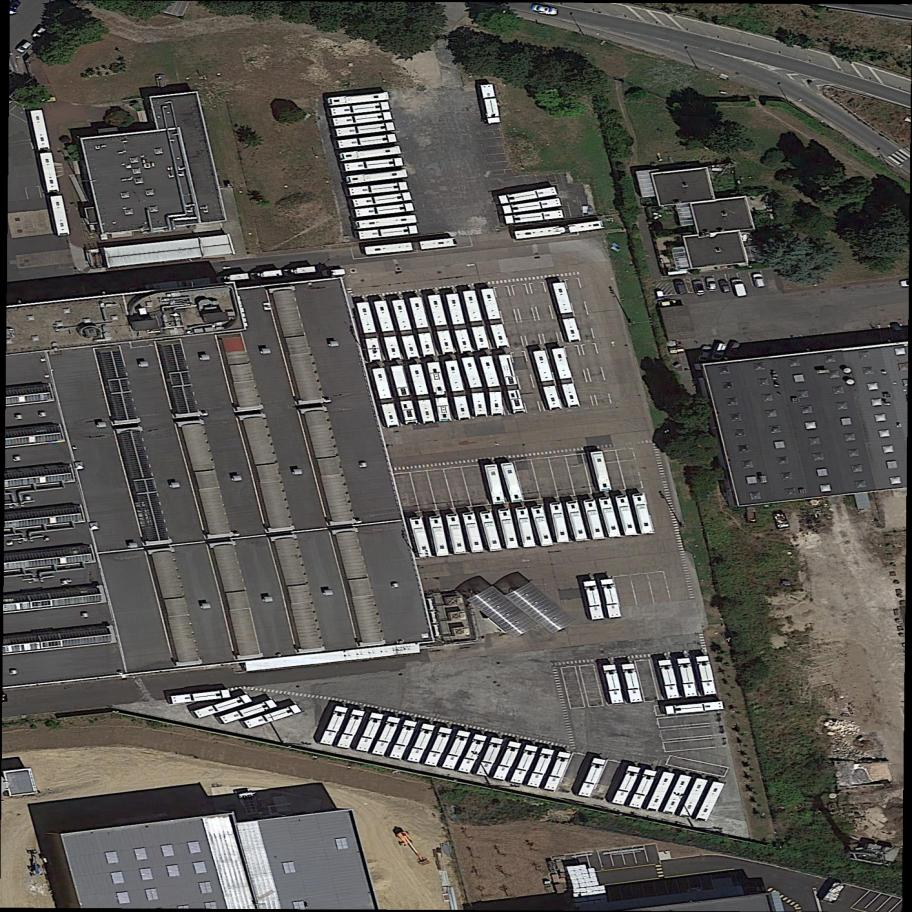large-vehicle: (551, 345, 582, 411), (551, 279, 582, 345), (480, 285, 511, 351), (390, 297, 421, 362), (512, 220, 605, 241), (461, 355, 491, 420), (443, 291, 473, 356), (532, 348, 562, 412), (427, 292, 456, 357), (373, 298, 402, 363), (390, 363, 419, 427), (497, 352, 526, 416), (462, 288, 491, 352), (361, 237, 458, 256), (409, 295, 437, 360), (372, 366, 400, 430), (409, 362, 437, 426), (356, 300, 383, 365), (216, 698, 278, 726), (445, 358, 472, 422), (191, 693, 254, 720), (241, 703, 303, 730), (479, 354, 505, 418), (427, 360, 452, 424), (440, 726, 472, 773), (456, 731, 488, 777), (318, 702, 349, 749), (354, 709, 385, 756), (387, 716, 418, 763), (423, 723, 454, 770), (335, 706, 366, 752), (370, 713, 401, 759), (405, 720, 436, 766), (576, 754, 607, 800), (611, 763, 642, 808), (662, 772, 693, 817), (492, 738, 522, 784), (542, 748, 572, 794), (628, 766, 658, 812), (679, 775, 709, 821), (695, 778, 725, 824), (646, 769, 676, 814), (475, 734, 504, 779), (509, 742, 538, 787), (526, 745, 554, 791), (494, 186, 558, 205), (337, 145, 403, 163), (498, 197, 562, 215), (588, 448, 613, 494), (36, 150, 61, 196), (331, 121, 396, 138), (348, 191, 413, 208), (350, 202, 415, 219), (409, 514, 433, 560), (500, 460, 524, 505), (28, 108, 52, 153), (334, 133, 397, 150), (531, 503, 554, 549), (480, 508, 503, 554), (47, 194, 71, 238), (478, 82, 502, 126), (500, 209, 565, 225), (462, 510, 485, 555), (599, 495, 622, 540), (615, 493, 638, 538), (632, 491, 655, 536), (356, 224, 420, 240), (326, 91, 390, 107), (354, 214, 418, 230), (329, 111, 393, 127), (340, 157, 404, 173), (345, 169, 409, 185), (345, 181, 409, 197), (599, 576, 622, 620), (498, 506, 520, 552), (658, 657, 681, 701), (565, 499, 588, 543), (602, 663, 625, 707), (327, 101, 390, 117), (583, 497, 605, 542), (621, 661, 643, 706), (695, 654, 717, 698), (445, 512, 467, 556), (484, 462, 506, 506), (677, 656, 699, 700), (167, 689, 231, 704), (583, 579, 605, 622), (549, 500, 570, 545), (515, 505, 536, 549), (429, 514, 449, 558), (663, 701, 725, 715), (142, 279, 182, 293), (249, 268, 287, 282), (214, 272, 249, 285), (286, 265, 318, 277), (321, 268, 348, 279), (182, 277, 209, 287)
small-vehicle: (725, 340, 745, 364), (711, 340, 727, 363), (731, 277, 747, 299), (697, 342, 712, 363), (673, 277, 688, 297), (531, 5, 559, 15), (16, 40, 33, 56), (751, 271, 765, 289), (656, 297, 678, 308), (693, 279, 706, 297), (33, 25, 48, 40), (705, 276, 718, 292), (720, 279, 731, 294)
